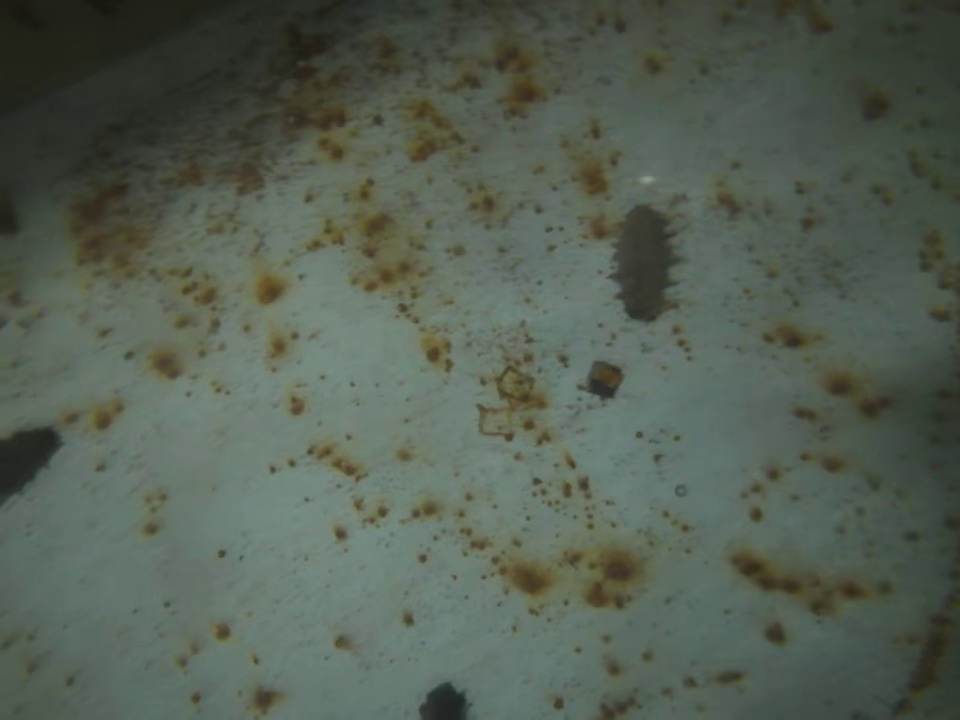seacucumber: (612, 205, 676, 322), (1, 424, 69, 517), (413, 677, 468, 720)
